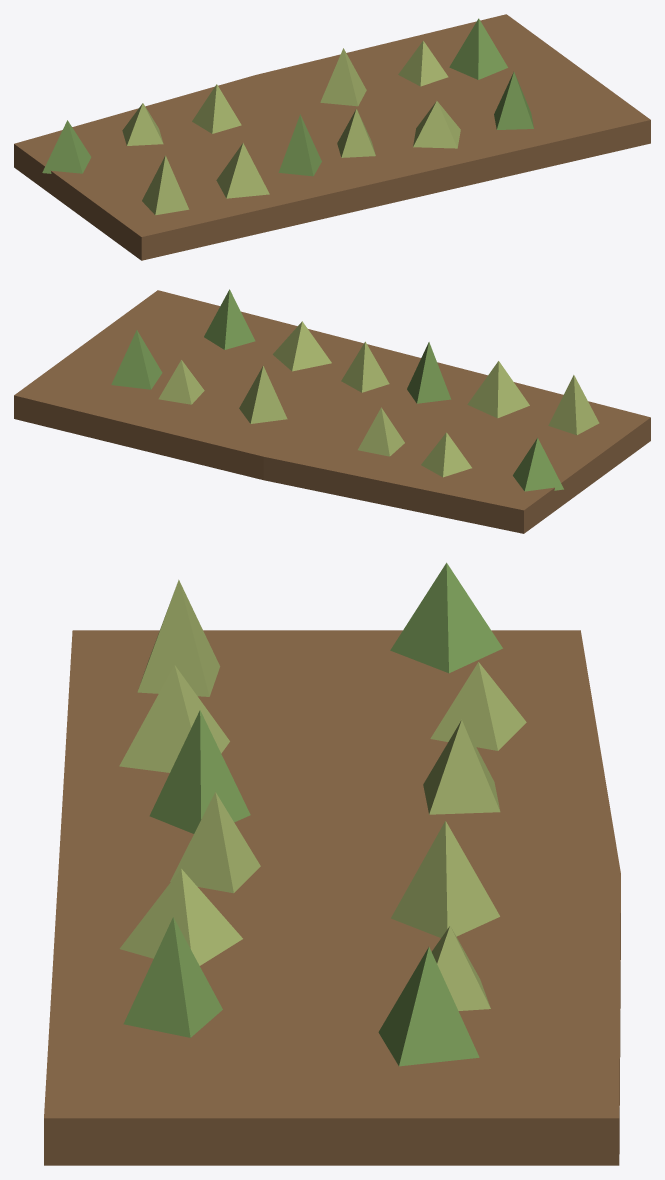
Rendered from work-row-shoots.glb.
3 renders of one model, top to bottom at view 1: azimuth 30°, elevation 25°; view 2: azimuth 150°, elevation 25°; view 3: azimuth 270°, elevation 25°, orthographic. The views are drawn at different scales.
Parts seen in each view (by area): view 1: work-row-shoots; view 2: work-row-shoots; view 3: work-row-shoots.
Boxes of the visible parts, <box> form: work-row-shoots: <box>14,14,650,260</box>; work-row-shoots: <box>14,289,650,533</box>; work-row-shoots: <box>44,562,620,1165</box>.
Bounding box in the file's own units: 2.02 × 0.2923 × 0.9992.
Materials: 1 (1 with a texture image).
